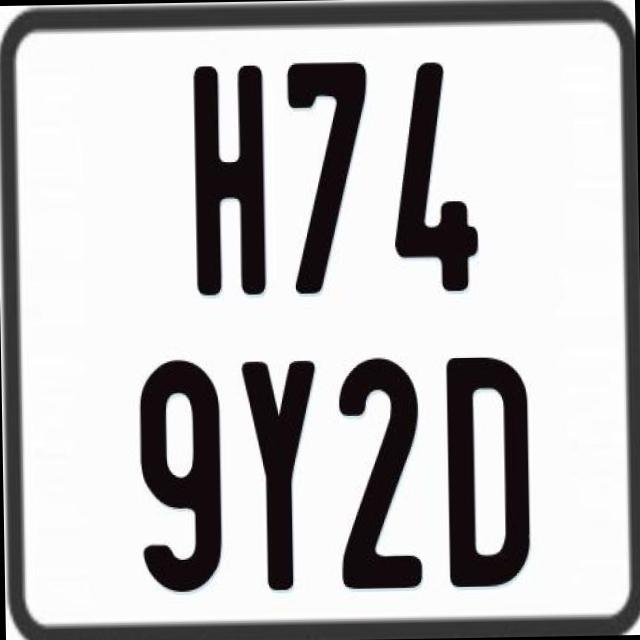2: (336, 354, 422, 592)
4: (392, 56, 478, 294)
7: (286, 62, 373, 298)
9: (136, 358, 224, 602)
D: (442, 352, 528, 591)
H: (188, 63, 266, 303)
Y: (239, 360, 323, 594)
